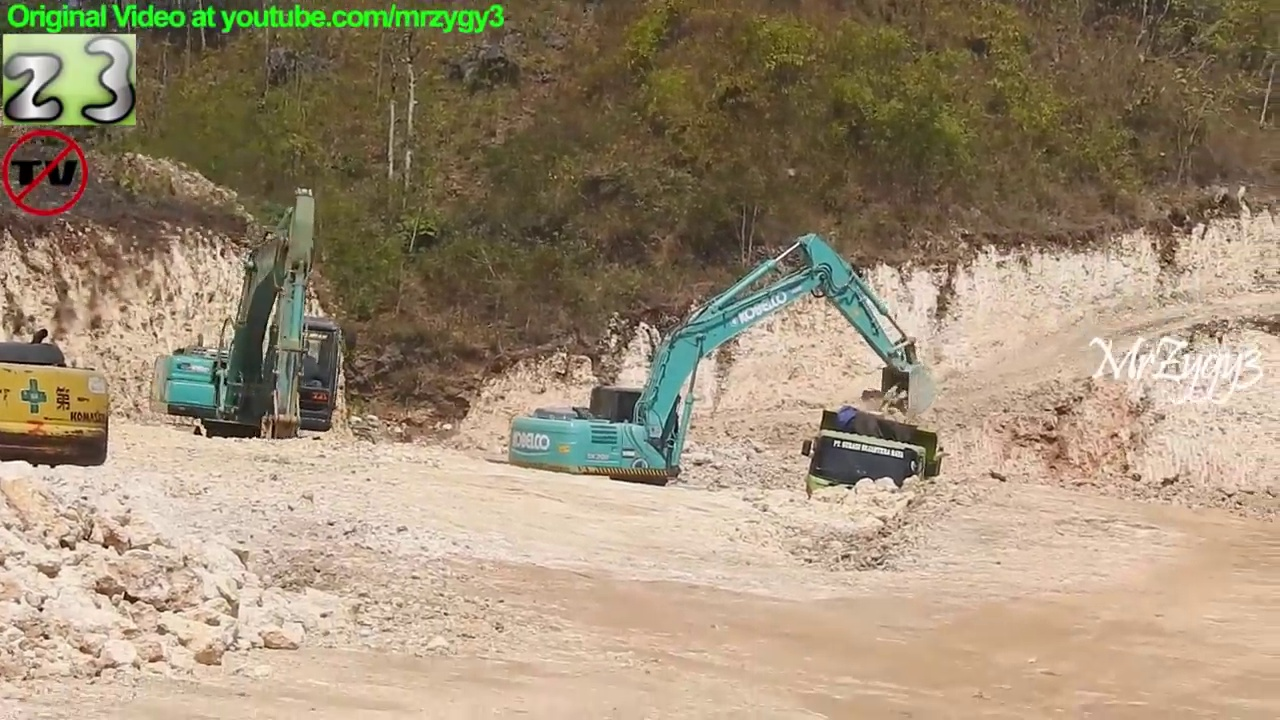excavator: (500, 226, 938, 528), (150, 182, 355, 481), (1, 324, 116, 474)
truck: (799, 400, 948, 545)
